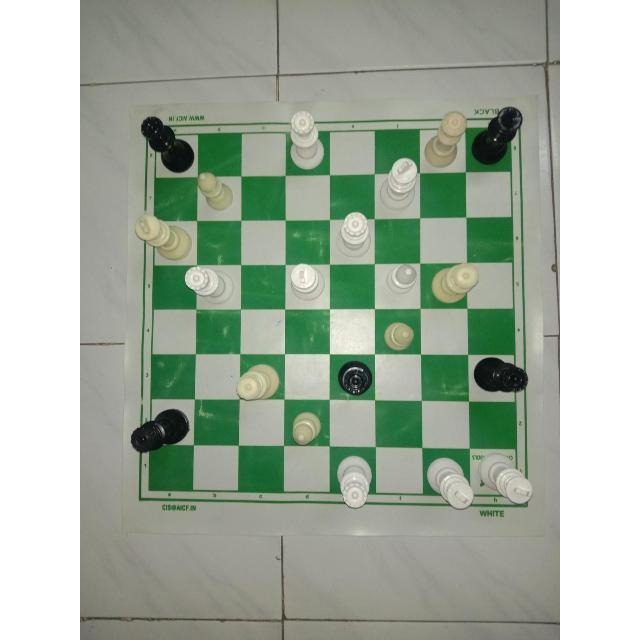black-king: (476, 101, 528, 171)
black-queen: (124, 406, 194, 458), (137, 116, 197, 172), (465, 353, 534, 399), (343, 362, 379, 406)
white-bishop: (194, 168, 238, 214), (383, 257, 421, 305), (378, 320, 422, 358), (286, 407, 324, 449)
white-king: (479, 452, 540, 514), (425, 451, 479, 517), (133, 212, 191, 261), (381, 154, 419, 214), (287, 260, 331, 308)
white-queen: (284, 102, 334, 171), (423, 109, 473, 171), (179, 262, 241, 307), (425, 263, 480, 306), (233, 359, 283, 405), (336, 452, 372, 512), (340, 210, 372, 262)
